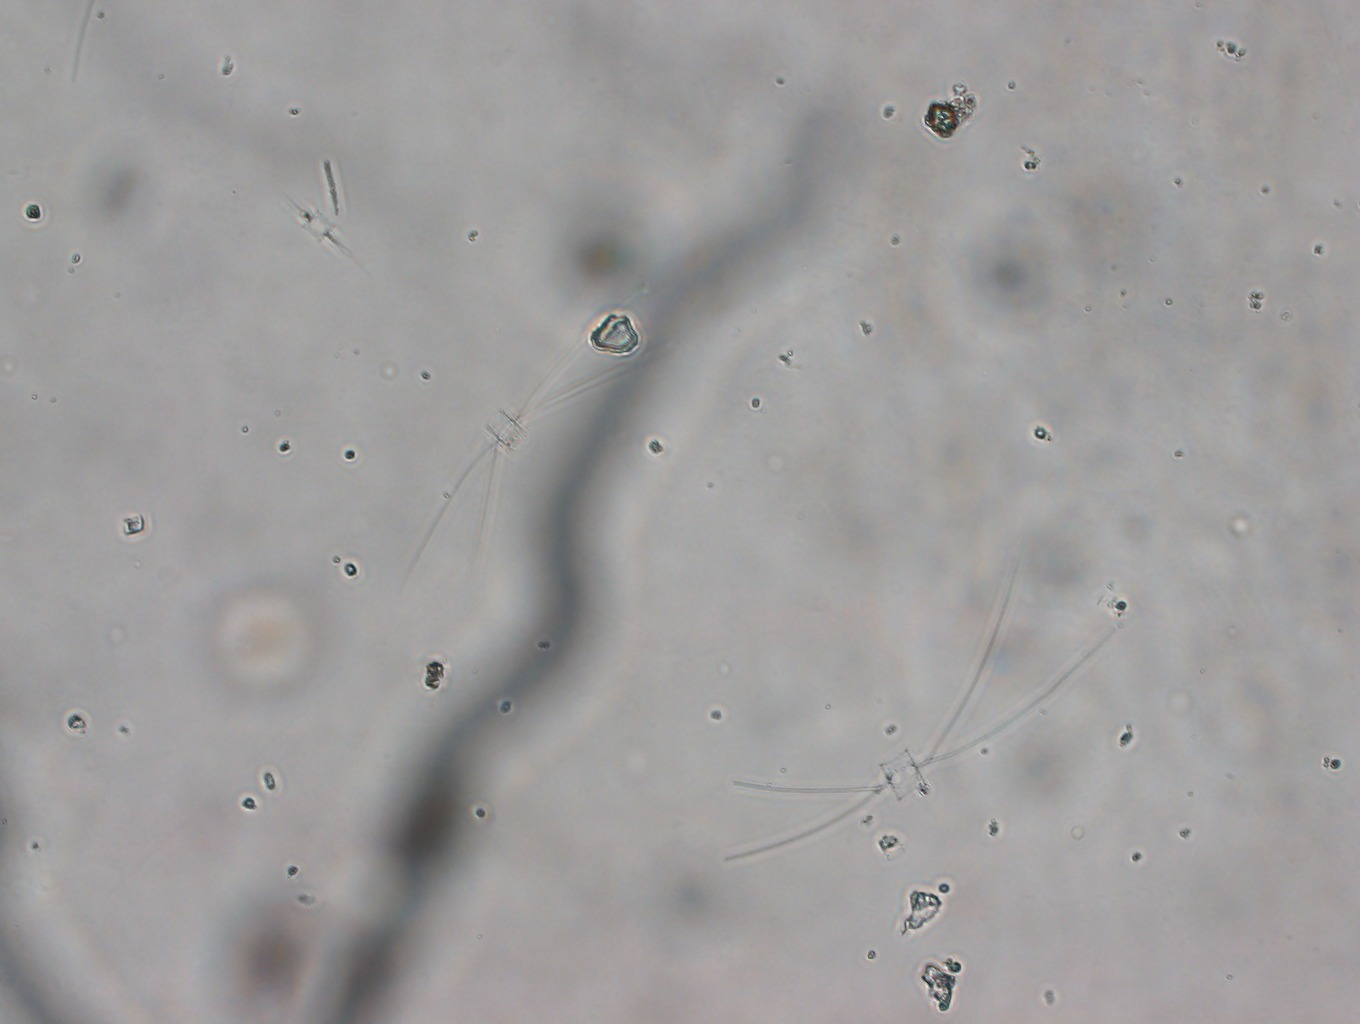chaetoceros: (707, 565, 1127, 868), (400, 268, 664, 603)
